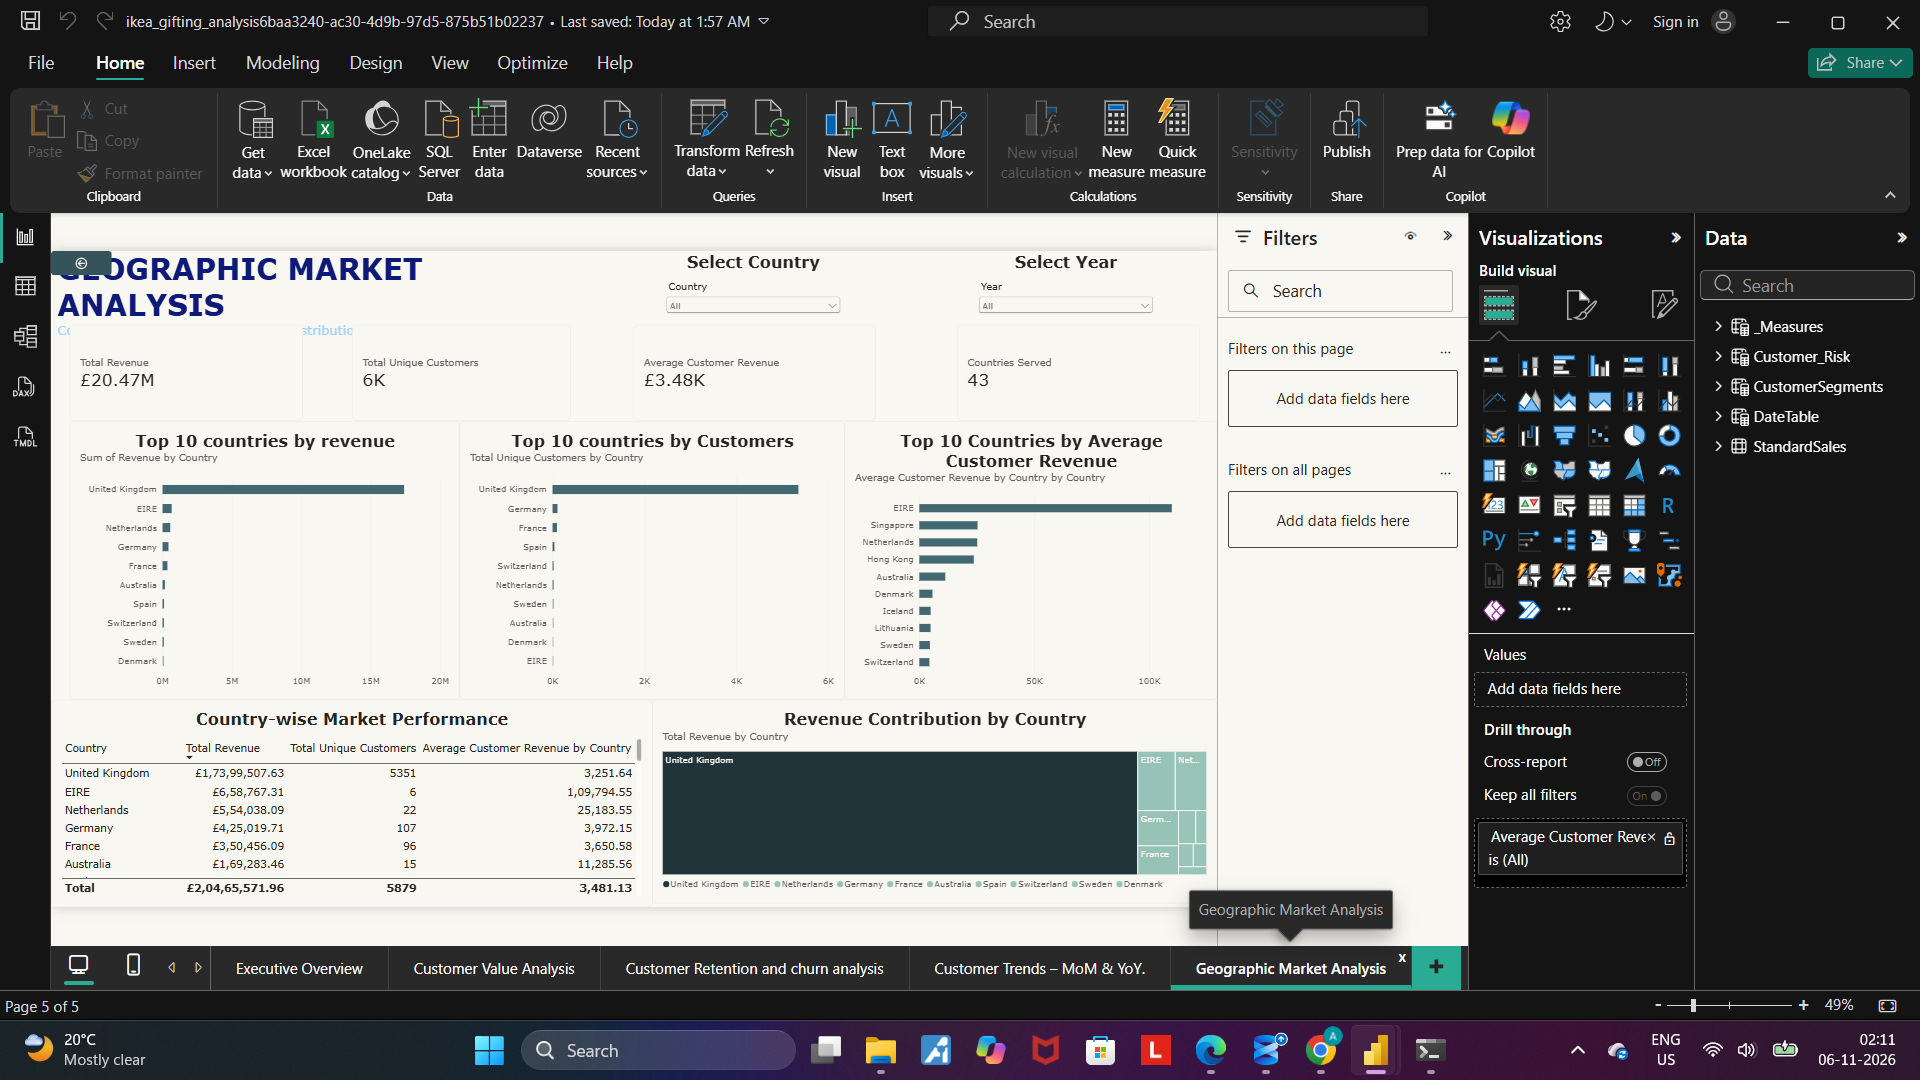

This screenshot's page, from the dashboard's own definition file:
{"tool":"powerbi","page":{"name":"Geographic Market Analysis","canvas":[1920,1080],"ordinal":4},"visuals":[{"type":"textbox","box":[10.3,0,784.2,279.9],"z":0},{"type":"cardVisual","fields":{"Data":["Customer_Risk.Total Revenue"]},"box":[30.9,121.4,384.9,158.5],"z":1},{"type":"cardVisual","fields":{"Data":["StandardSales.Total Unique Customers"]},"box":[496.1,121.4,360.2,158.5],"z":2},{"type":"cardVisual","fields":{"Data":["Customer_Risk.Average Customer Revenue"]},"box":[959.2,121.4,399.3,158.5],"z":3},{"type":"cardVisual","fields":{"Data":["_Measures.Countries Served"]},"box":[1492.3,121.4,399.3,158.5],"z":4},{"type":"clusteredBarChart","title":"Top 10 countries by revenue ","fields":{"Category":["StandardSales.Country"],"Y":["Sum(StandardSales.Revenue)"]},"box":[30.9,279.9,642.2,459],"z":5},{"type":"clusteredBarChart","title":"Top 10 countries by Customers","fields":{"Category":["StandardSales.Country"],"Y":["_Measures.Total Unique Customers"]},"box":[673.1,279.9,634,459],"z":6},{"type":"clusteredBarChart","title":"Top 10 Countries by Average Customer Revenue","fields":{"Category":["StandardSales.Country"],"Y":["_Measures.Average Customer Revenue by Country"]},"box":[1307,279.9,613.4,459],"z":7},{"type":"tableEx","title":"Country-wise Market Performance","fields":{"Values":["StandardSales.Country","_Measures.Total Revenue","_Measures.Total Unique Customers","_Measures.Average Customer Revenue by Country"]},"box":[0,738.9,990.1,341.7],"z":8},{"type":"actionButton","box":[0,0,100,40],"z":9},{"type":"treemap","title":"Revenue Contribution by Country","fields":{"Group":["StandardSales.Country"],"Values":["_Measures.Total Revenue"]},"box":[990.1,738.9,930.4,335.5],"z":10},{"type":"slicer","title":"Select Country","fields":{"Values":["StandardSales.Country"]},"box":[1008.6,0,296.4,152.3],"z":11},{"type":"slicer","title":"Select Year","fields":{"Values":["StandardSales.Year"]},"box":[1523.2,0,296.4,152.3],"z":12}]}

Visuals, with their boxes on the page's 1920x1080 design canvas (x1, y1, x2, y2). These are canvas units, not pixel positions in the 1920x1080 screenshot, which may show the page scaled, cropped or inside an application window:
textbox: bbox(10, 0, 794, 280)
cardVisual - Customer_Risk.Total Revenue: bbox(31, 121, 416, 280)
cardVisual - StandardSales.Total Unique Customers: bbox(496, 121, 856, 280)
cardVisual - Customer_Risk.Average Customer Revenue: bbox(959, 121, 1358, 280)
cardVisual - _Measures.Countries Served: bbox(1492, 121, 1892, 280)
"Top 10 countries by revenue " clusteredBarChart: bbox(31, 280, 673, 739)
"Top 10 countries by Customers" clusteredBarChart: bbox(673, 280, 1307, 739)
"Top 10 Countries by Average Customer Revenue" clusteredBarChart: bbox(1307, 280, 1920, 739)
"Country-wise Market Performance" tableEx: bbox(0, 739, 990, 1081)
actionButton: bbox(0, 0, 100, 40)
"Revenue Contribution by Country" treemap: bbox(990, 739, 1920, 1074)
"Select Country" slicer: bbox(1009, 0, 1305, 152)
"Select Year" slicer: bbox(1523, 0, 1820, 152)
